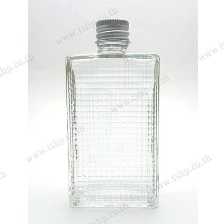bottle: (57, 14, 175, 212)
